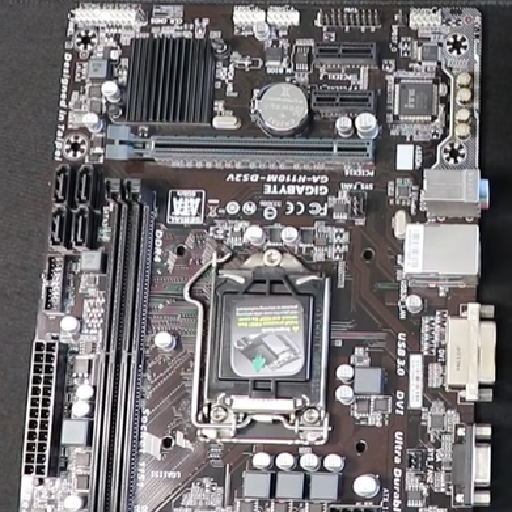CPU: (184, 224, 348, 446)
GPU: (103, 124, 378, 167)
MOTHERBOARD: (20, 2, 497, 512)
RAM: (87, 177, 159, 512)
